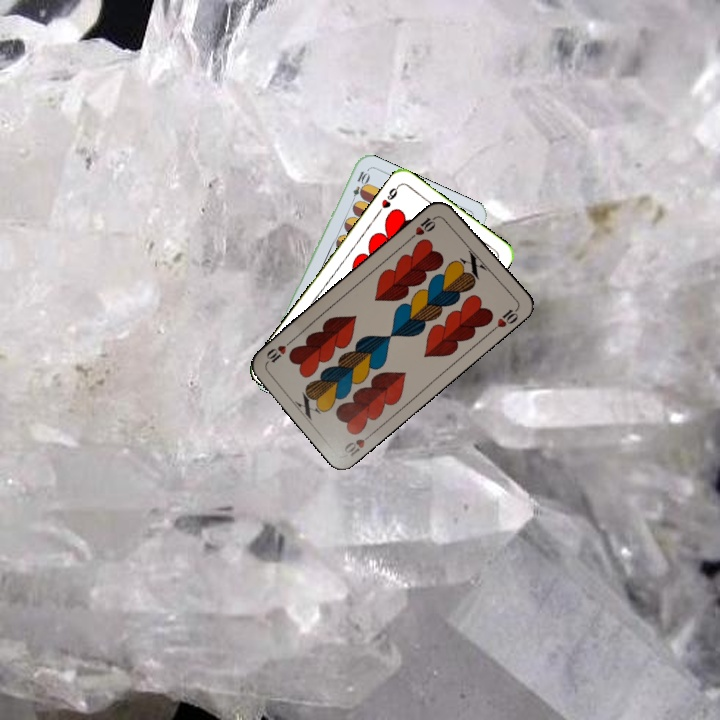E10: (347, 167, 371, 207)
H10: (340, 428, 377, 459), (406, 212, 441, 242)
H9: (373, 181, 402, 216)
